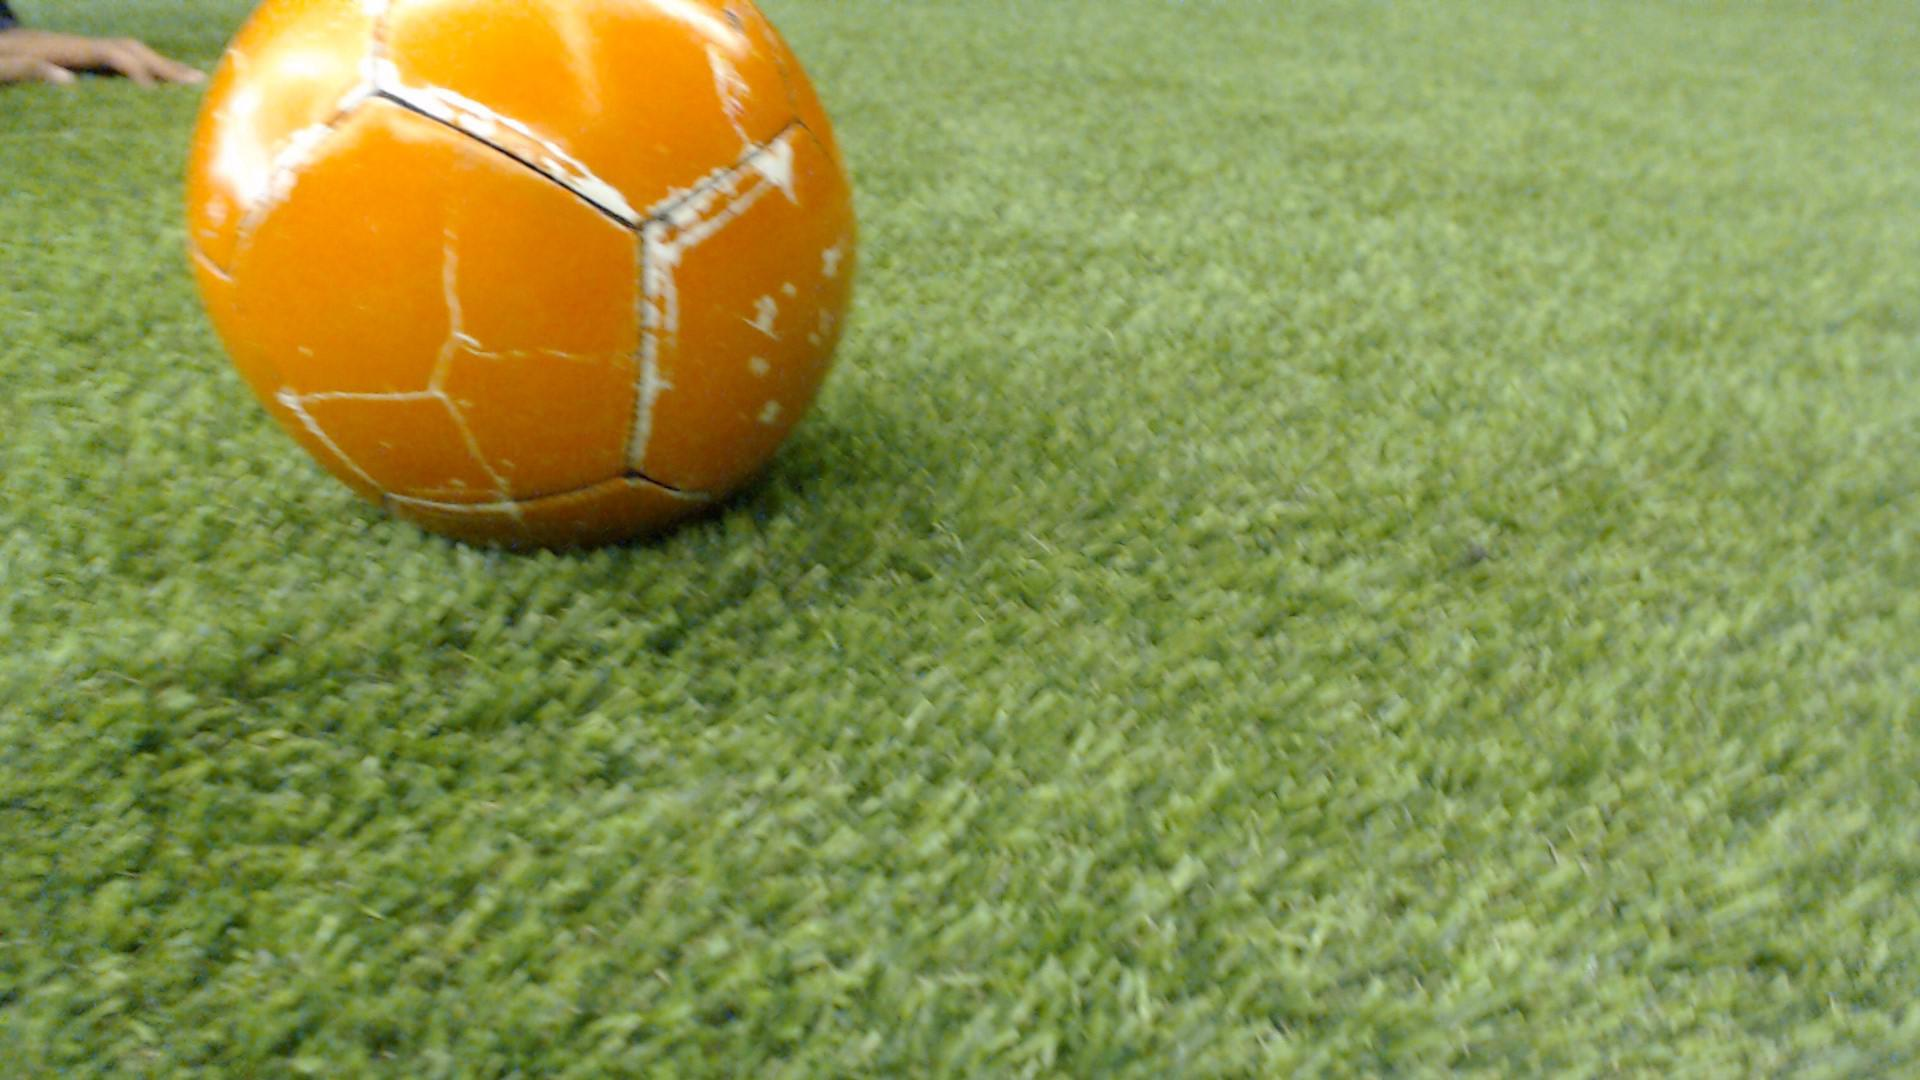bola: (191, 0, 870, 555)
